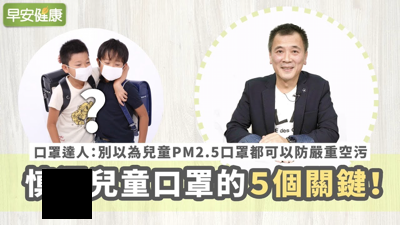with_mask: (100, 57, 124, 82), (70, 58, 93, 82)
without_mask: (271, 43, 305, 80)
